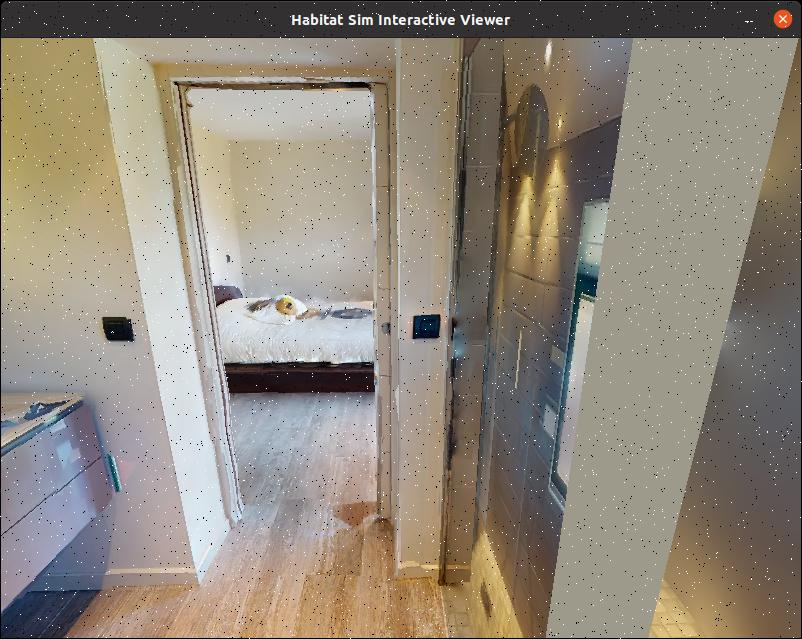bed: (205, 281, 401, 384)
door-frame: (165, 65, 416, 531)
